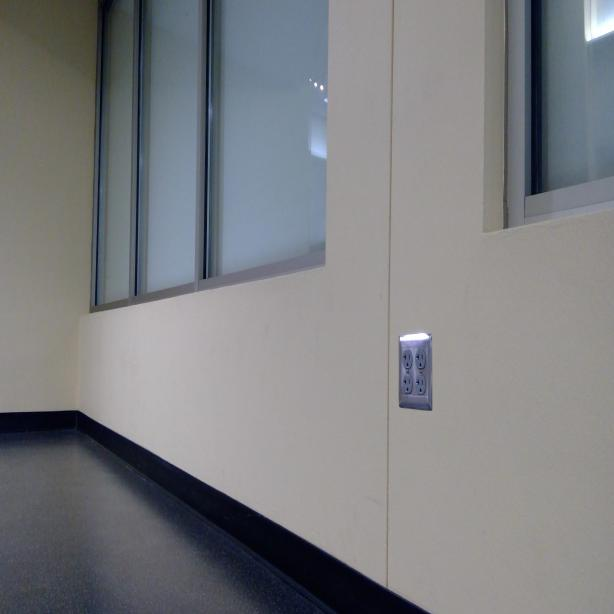typeb: (402, 349, 412, 369), (402, 375, 413, 393), (415, 351, 425, 369), (416, 377, 425, 396)
